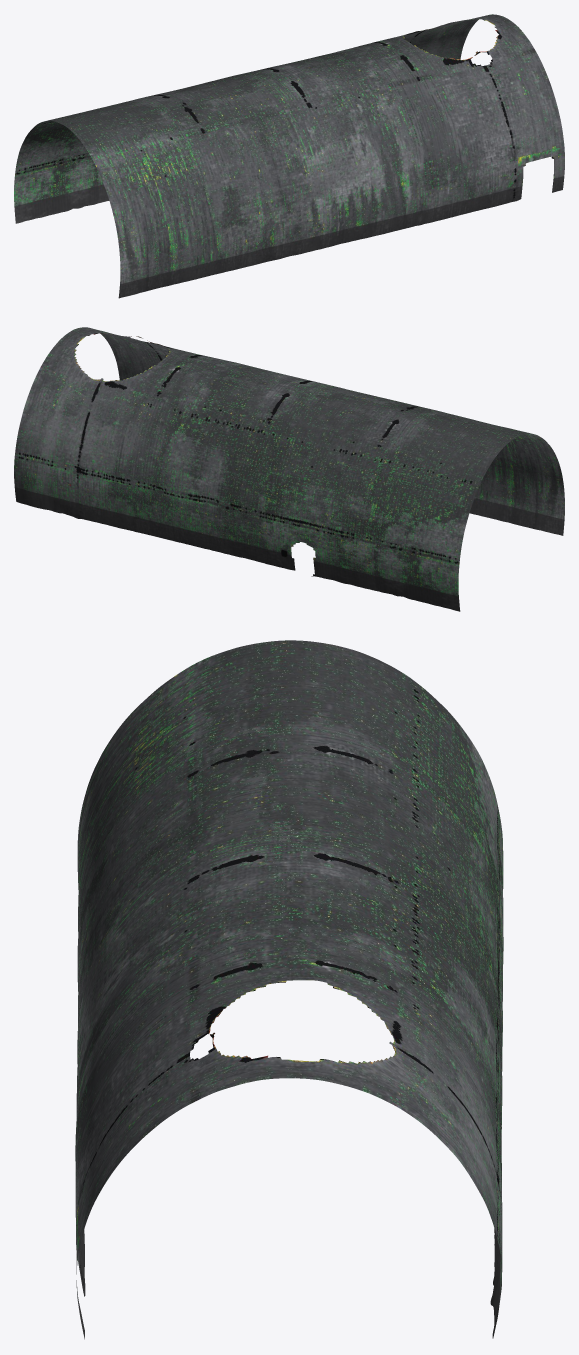
3 views of the same model, one above another, from view 1: azimuth 30°, elevation 25°; view 2: azimuth 150°, elevation 25°; view 3: azimuth 270°, elevation 25° (orthographic). The views are drawn at different scales.
Visible parts, largest first — view 1: TS-139 lining; view 2: TS-139 lining; view 3: TS-139 lining.
Part boxes in pixels (<box>): TS-139 lining: <box>14,14,564,298</box>; TS-139 lining: <box>14,327,564,611</box>; TS-139 lining: <box>75,640,503,1339</box>.
Size of the model in its own units: 20.2 by 5.87 by 8.43.
Materials: 1 (1 with a texture image).
